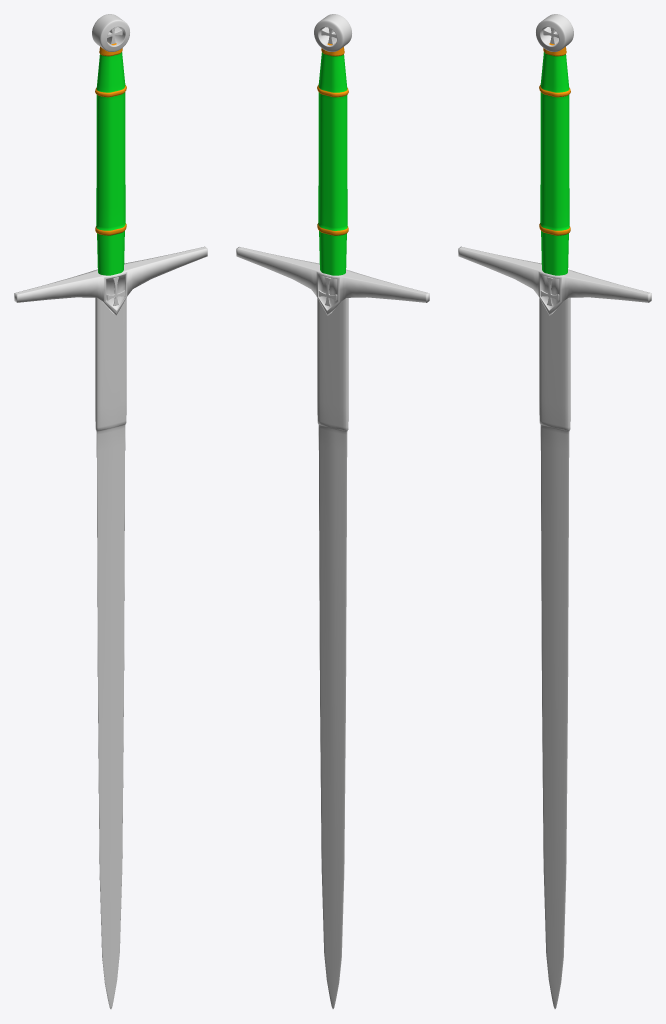
The model's file is TemplarSword.fbx.
3 views of the same model, side by side, from view 1: azimuth 30°, elevation 25°; view 2: azimuth 150°, elevation 25°; view 3: azimuth 330°, elevation 25° (orthographic).
Parts seen in each view (by area): view 1: Blade.001, Blade.003, Blade.002, Blade.004; view 2: Blade.001, Blade.003, Blade.002, Blade.004; view 3: Blade.001, Blade.003, Blade.002, Blade.004.
Boxes of the visible parts, x1,y1,x2,y2 form: Blade.001: (95,297,126,1009); Blade.003: (95,43,126,275); Blade.002: (14,246,207,315); Blade.004: (92,14,129,51); Blade.001: (317,298,348,1009); Blade.003: (317,43,348,275); Blade.002: (236,247,429,315); Blade.004: (314,14,351,51); Blade.001: (539,297,570,1009); Blade.003: (539,43,570,275); Blade.002: (458,246,651,315); Blade.004: (536,14,573,51).
Bounding box in the file's own units: 82.71 × 412 × 8.92.
